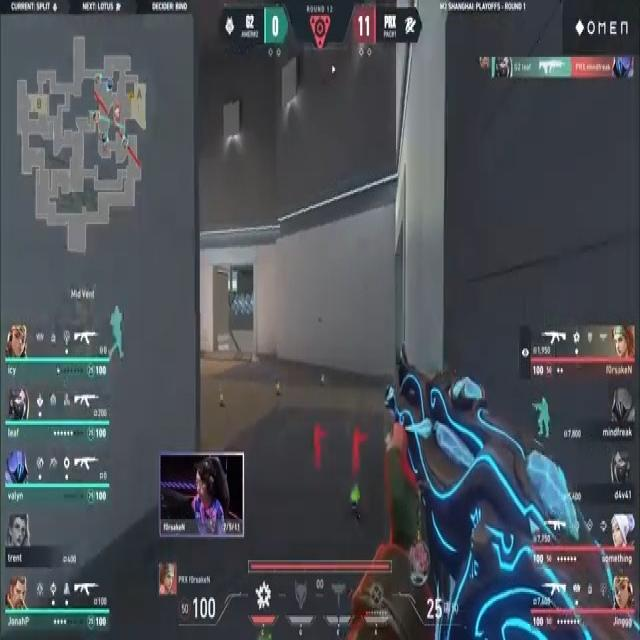ally behind wall: (105, 302, 131, 358)
enemy behind wall: (348, 416, 368, 475), (313, 420, 325, 466)
